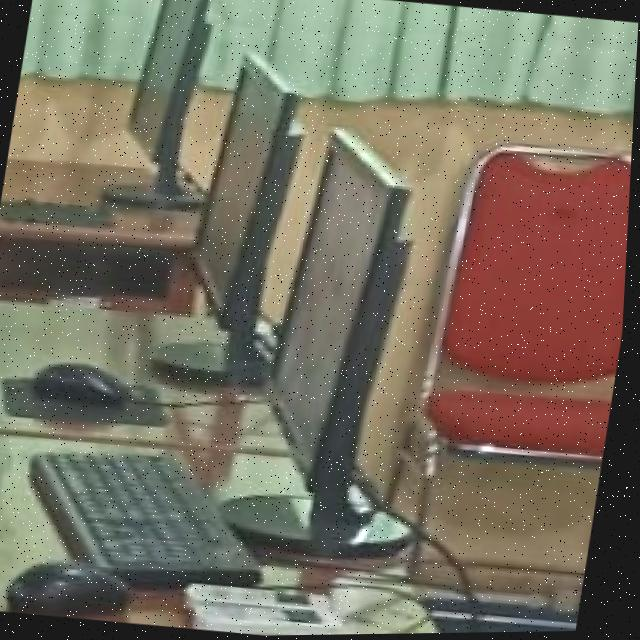offscreen: (276, 132, 393, 488), (199, 53, 303, 336), (131, 0, 198, 160)
